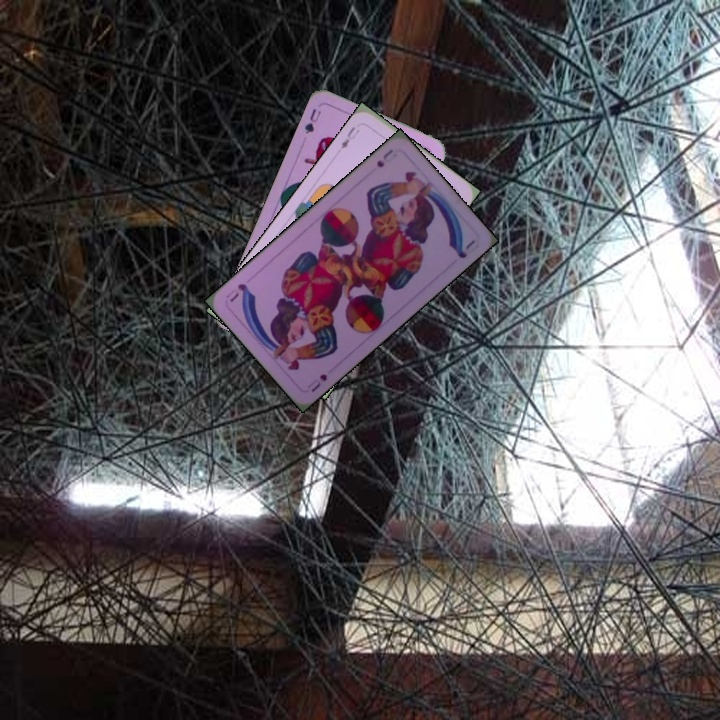EU: (337, 122, 362, 152)
GU: (300, 104, 324, 137)
SU: (303, 370, 330, 395), (372, 145, 396, 170)
